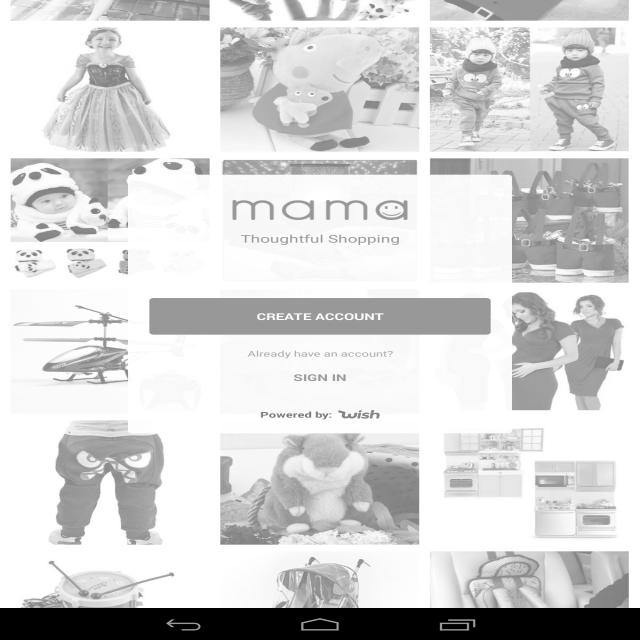Button: (147, 296, 494, 337)
ImageView: (26, 4, 604, 151), (223, 430, 413, 602), (441, 435, 609, 601), (38, 425, 184, 600), (12, 158, 124, 378), (511, 293, 626, 410), (514, 159, 620, 280)
TextView: (224, 194, 417, 226), (237, 230, 406, 248), (239, 346, 398, 359), (258, 406, 384, 422), (288, 368, 364, 384)
